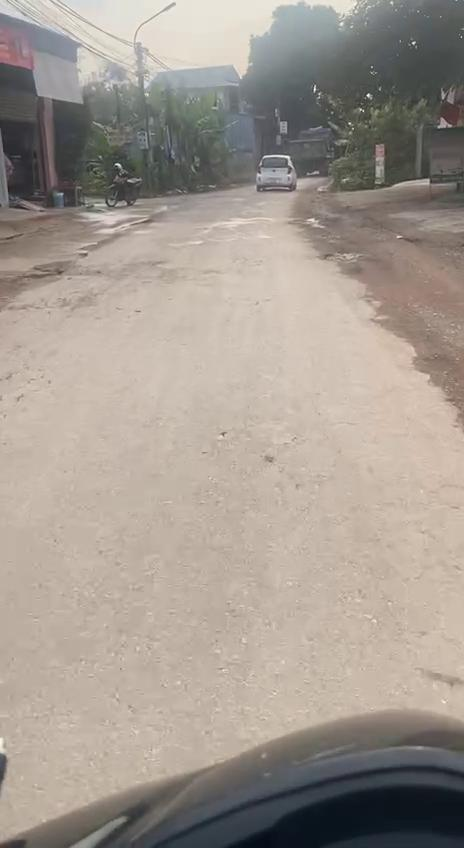pothole: (406, 350, 460, 384), (368, 306, 406, 336), (320, 248, 366, 264)
